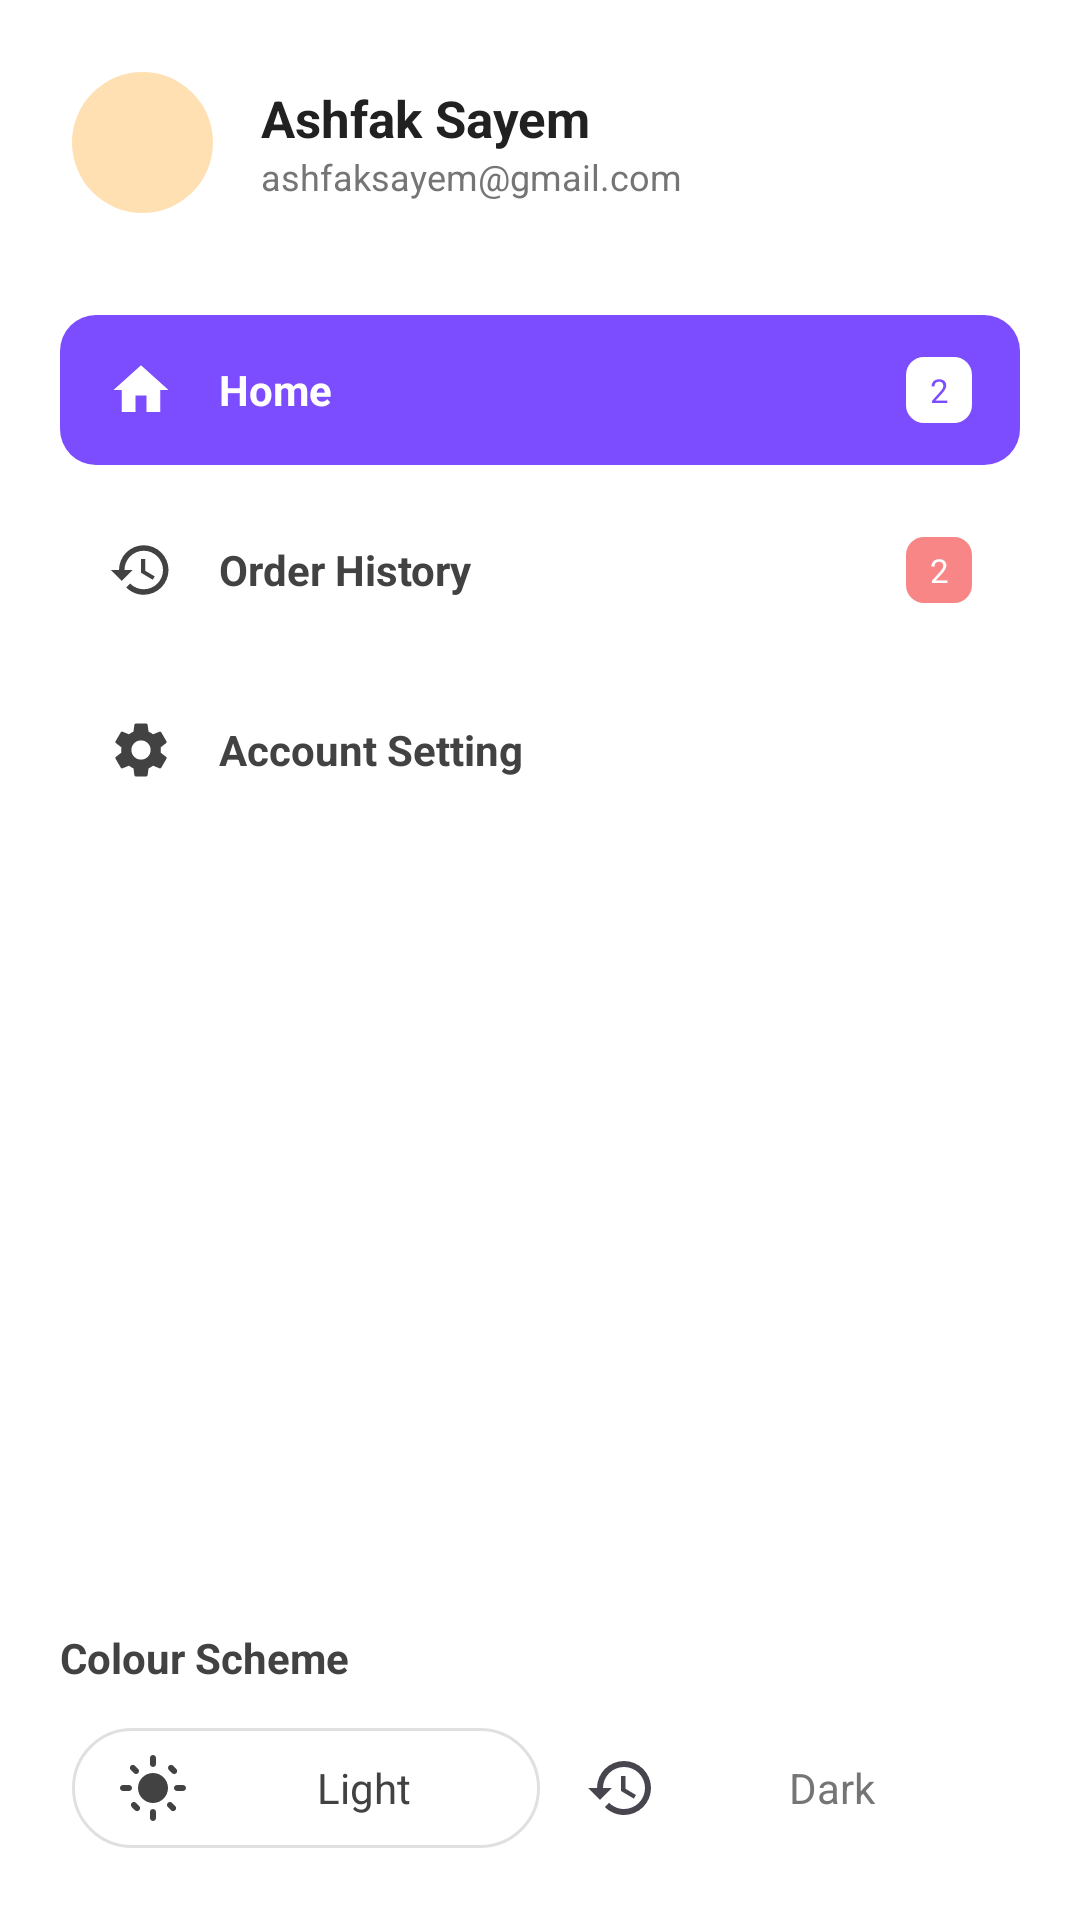

Where icons sit on this 1080 x 1920 app screen, as region(x1, y1, x2, y2):
settings: region(115, 723, 167, 777)
